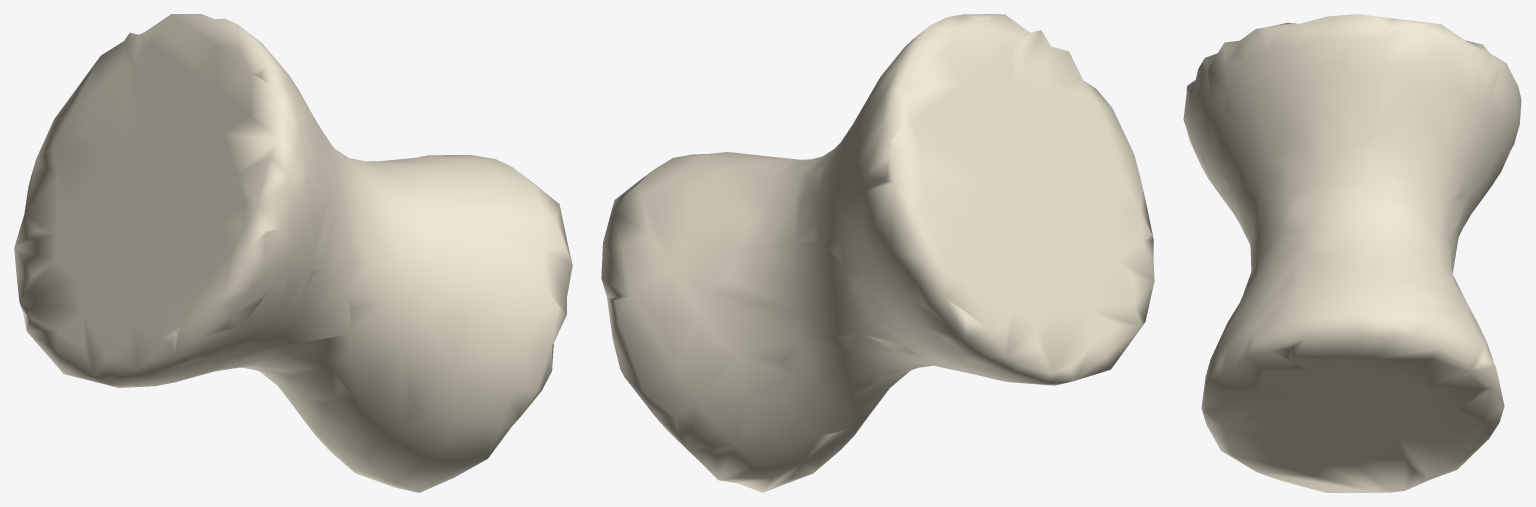
The model's file is caudal_5.glb.
3 views of the same model, side by side, from view 1: azimuth 30°, elevation 25°; view 2: azimuth 150°, elevation 25°; view 3: azimuth 270°, elevation 25° (orthographic). The views are drawn at different scales.
Parts seen in each view (by area): view 1: geometry_0; view 2: geometry_0; view 3: geometry_0.
Part boxes in pixels (bbox=[...]): geometry_0: bbox=[14, 14, 572, 492]; geometry_0: bbox=[601, 14, 1154, 492]; geometry_0: bbox=[1183, 14, 1521, 492].
Size of the model in its own units: 0.0682 by 0.0666 by 0.0486.
